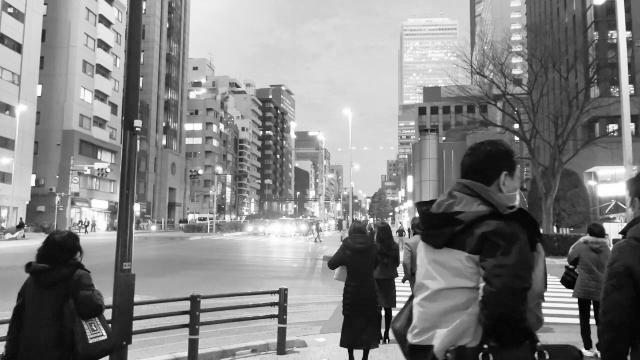berdiri: (324, 217, 388, 360), (561, 222, 615, 358)
berjalan: (412, 144, 548, 360), (8, 224, 108, 360)
